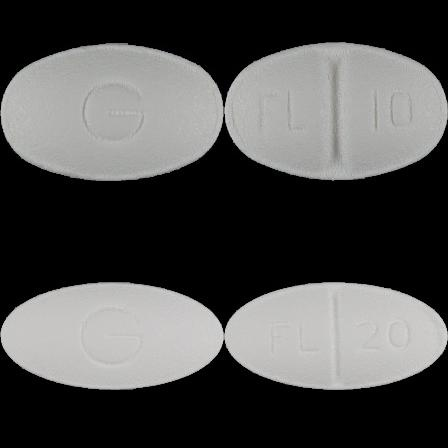21695-320: (0, 0, 224, 224)
